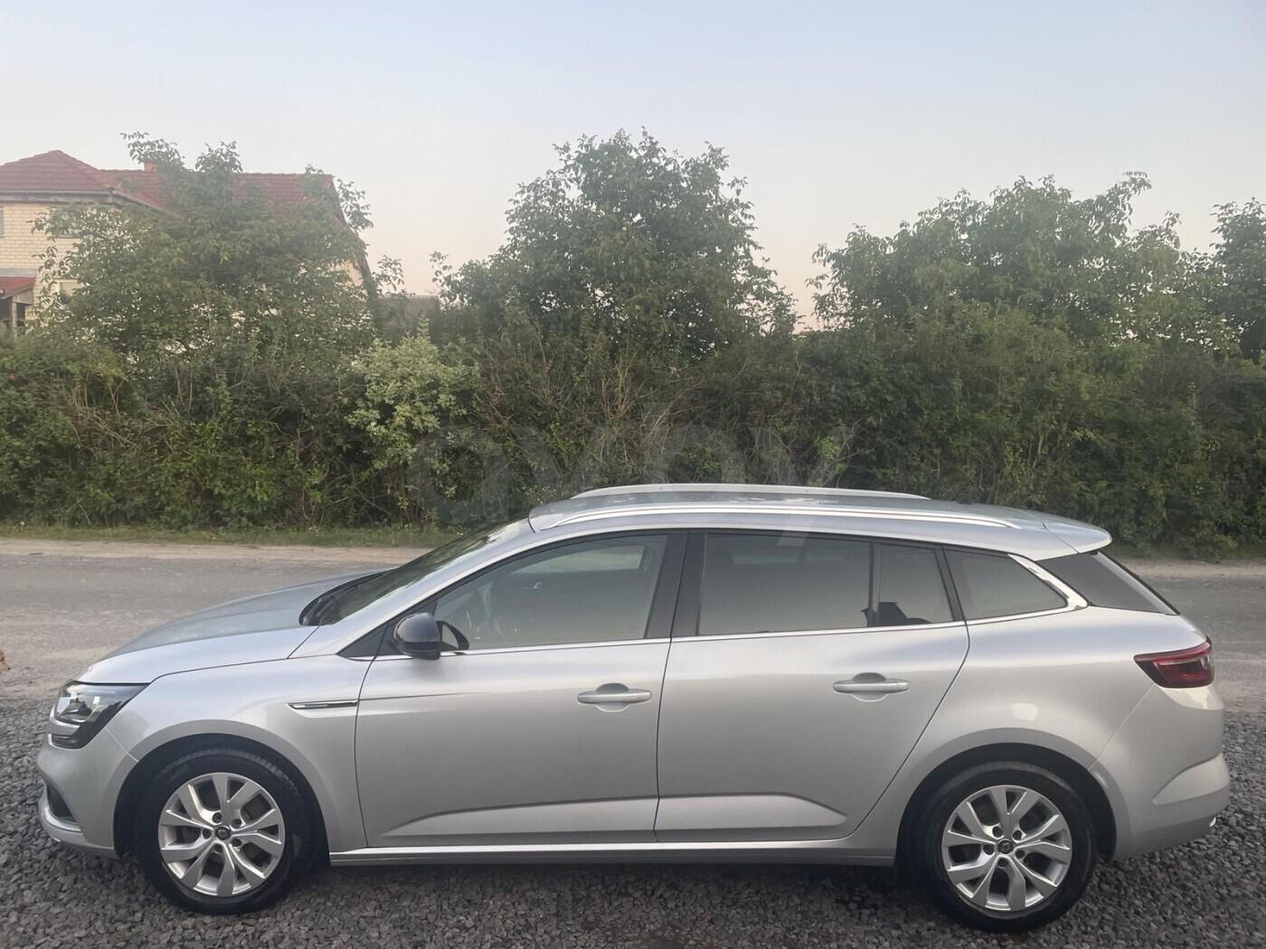Megane_2016-2020: (34, 482, 1236, 926)
